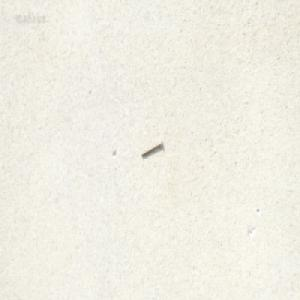Bolt: (140, 139, 163, 158)
